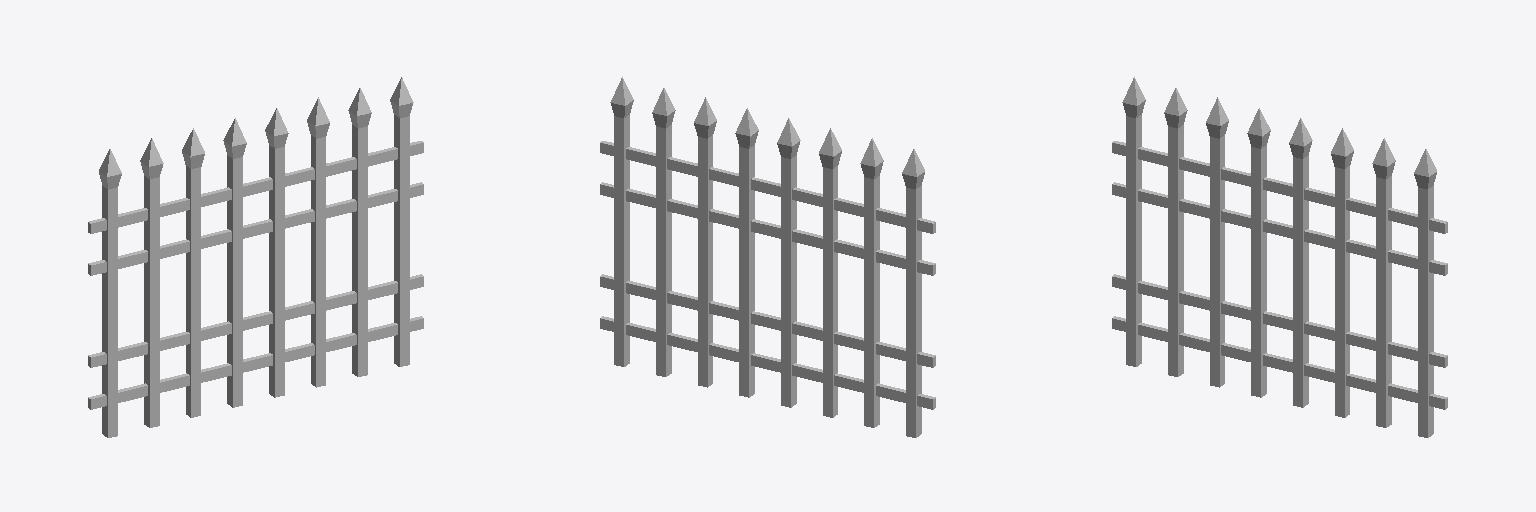
The model's file is ironFence.obj.
3 views of the same model, side by side, from view 1: azimuth 30°, elevation 25°; view 2: azimuth 150°, elevation 25°; view 3: azimuth 330°, elevation 25° (orthographic).
Parts seen in each view (by area): view 1: ironFence; view 2: ironFence; view 3: ironFence.
Part boxes in pixels (x1,y1,x2,y2): ironFence: (88, 77, 423, 437); ironFence: (600, 77, 935, 437); ironFence: (1112, 77, 1447, 437).
Size of the model in its own units: 1 by 0.8239 by 0.045.